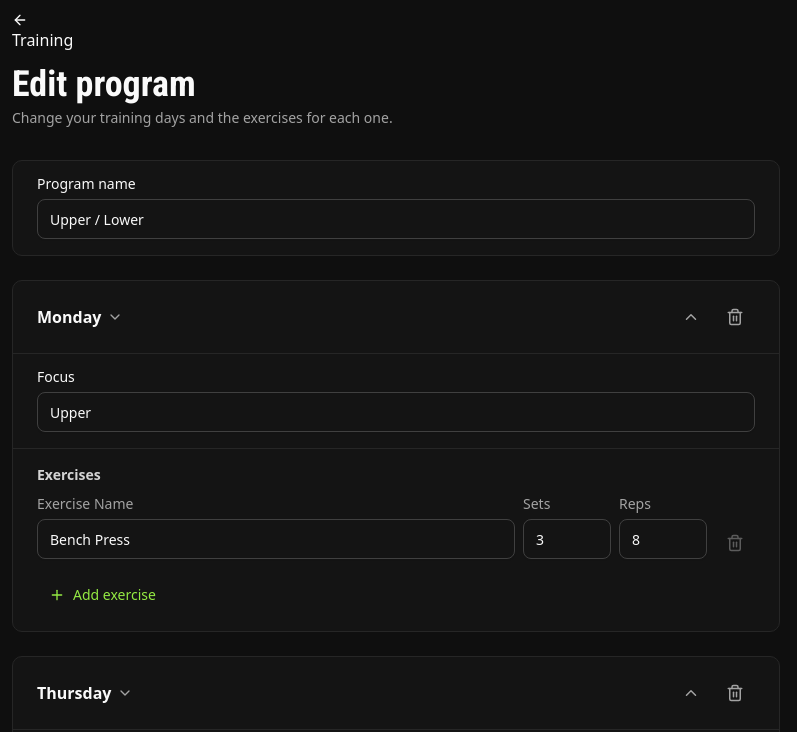
Test case: ManualProgramCreation › editing a saved program › marks a new exercise once instead of each of its fields
Click the button "Add exercise" at point(102, 595), box [37,575,168,615]
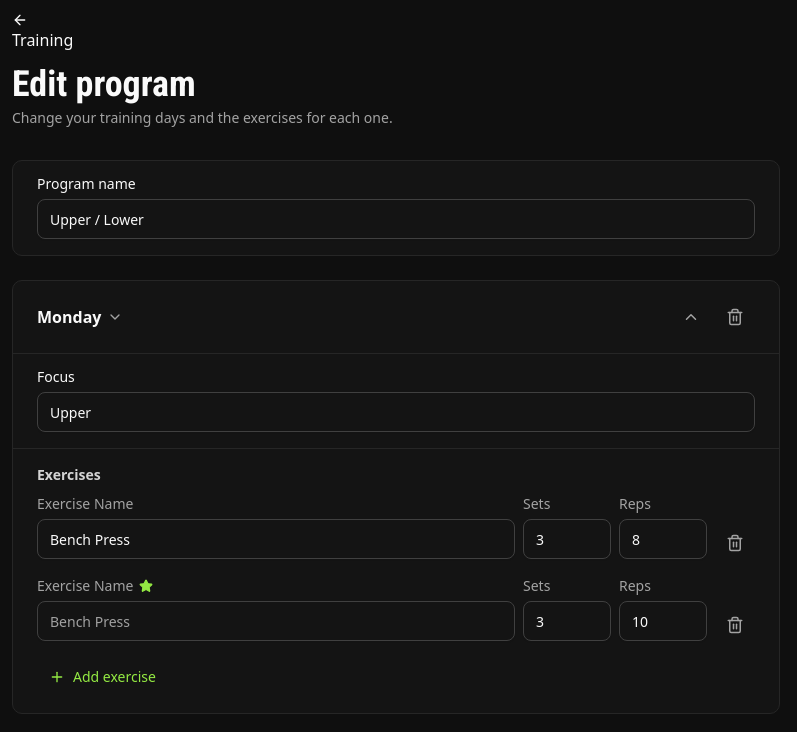
Expected: the number of elements titled "New exercise" is 1, [139,579,153,593]
